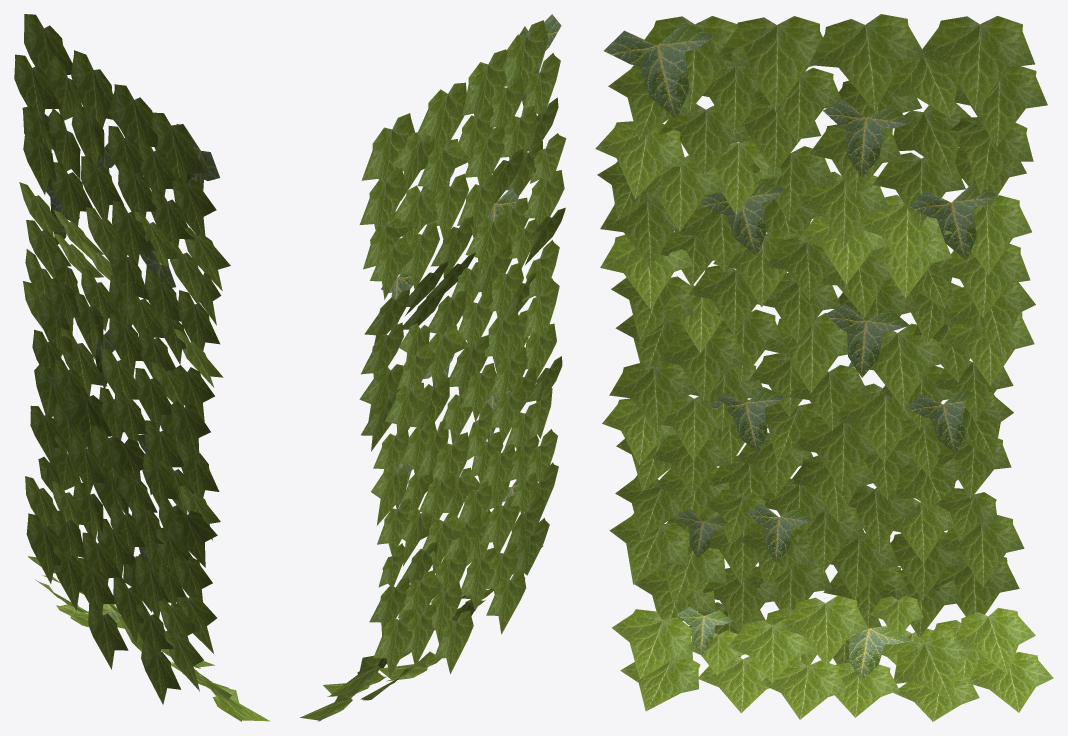
The model's file is Vines_B.fbx.
The picture shows the model from 3 angles, left to right: view 1: azimuth 30°, elevation 25°; view 2: azimuth 150°, elevation 25°; view 3: azimuth 270°, elevation 25°; orthographic projection. The views are drawn at different scales.
Parts seen in each view (by area): view 1: VInes_B_more; view 2: VInes_B_more; view 3: VInes_B_more.
Boxes of the visible parts, x1,y1,x2,y2 form: VInes_B_more: (14,14,269,721); VInes_B_more: (300,14,566,721); VInes_B_more: (595,14,1053,721).
Bounding box in the file's own units: 55.31 × 310 × 196.
